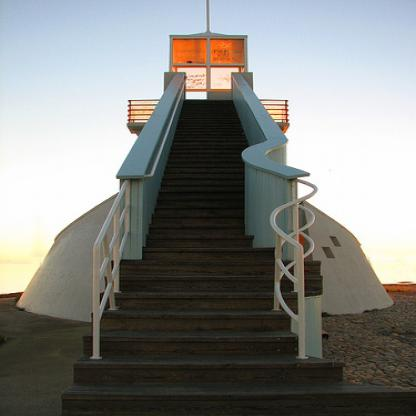stairs: (125, 285, 261, 416)
